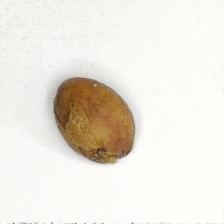NG: (83, 141, 125, 166)
